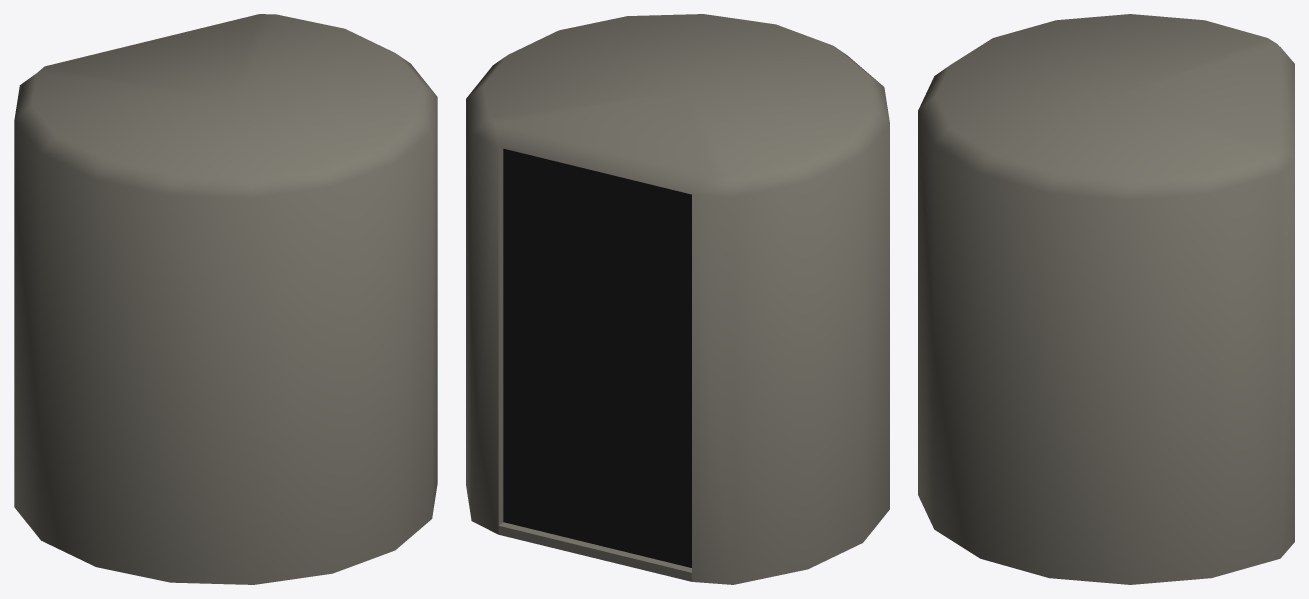
The model's file is spawnp (1).fbx.
3 renders of one model, left to right at view 1: azimuth 30°, elevation 25°; view 2: azimuth 150°, elevation 25°; view 3: azimuth 270°, elevation 25°, orthographic.
Visible parts, largest first — view 1: Cylinder.001; view 2: Cylinder.001; view 3: Cylinder.001.
Part boxes in pixels (<box>): Cylinder.001: <box>14,14,437,584</box>; Cylinder.001: <box>466,14,889,584</box>; Cylinder.001: <box>918,14,1294,584</box>.
Size of the model in its own units: 2 by 2.07 by 1.77.
